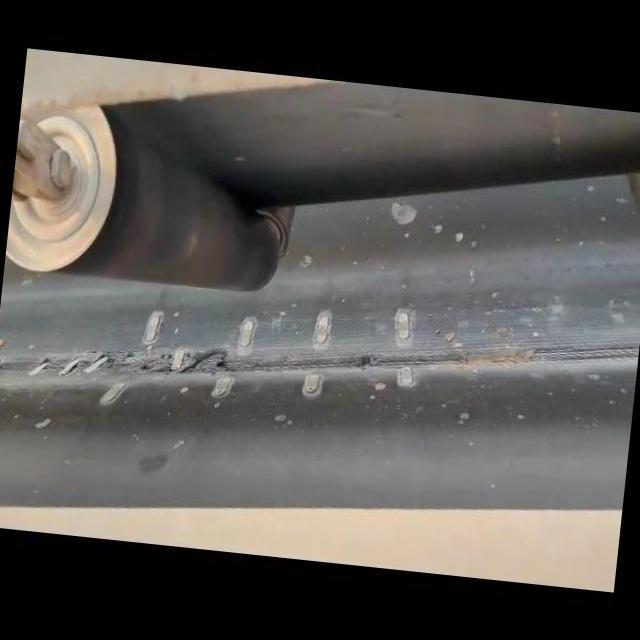Tear: (154, 347, 239, 378)
Wear: (0, 334, 640, 382)
